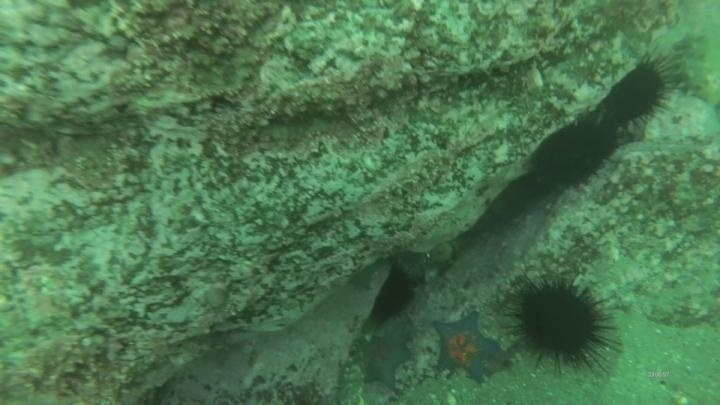echinus: (508, 274, 619, 373), (527, 111, 622, 192), (598, 54, 675, 131), (368, 265, 419, 325)
holothurian: (669, 26, 720, 110)
starfish: (428, 310, 504, 385), (354, 321, 416, 391)
